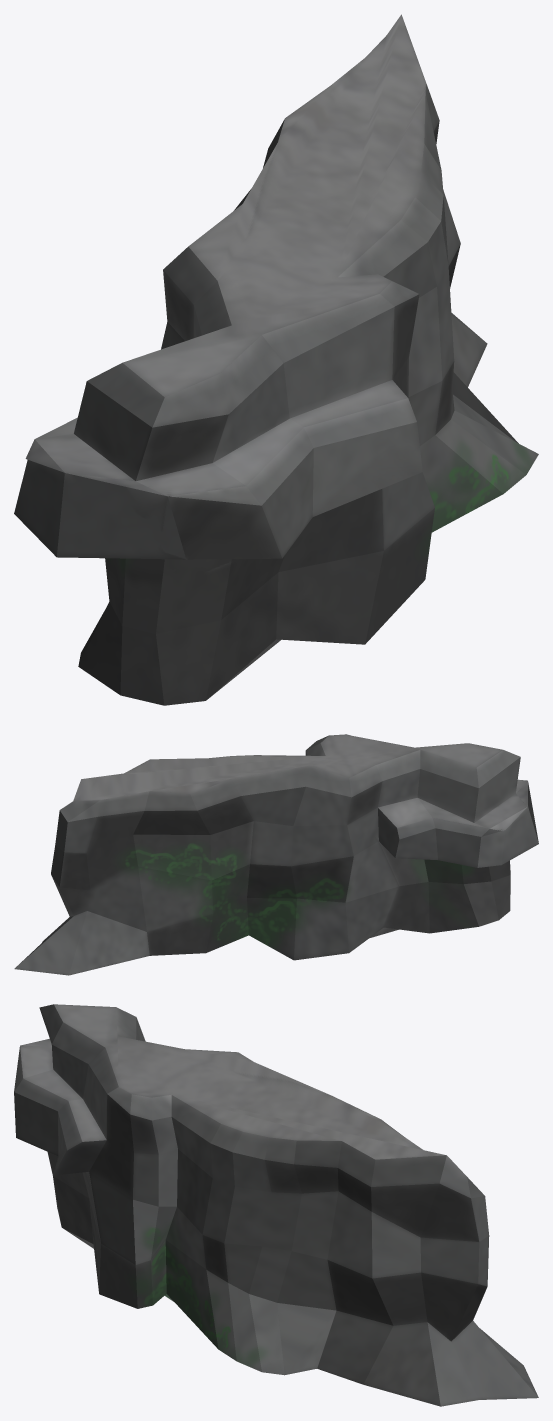
Rendered from batu 6.fbx.
3 views of the same model, one above another, from view 1: azimuth 30°, elevation 25°; view 2: azimuth 150°, elevation 25°; view 3: azimuth 270°, elevation 25° (orthographic). The views are drawn at different scales.
Visible parts, largest first — view 1: batu6; view 2: batu6; view 3: batu6.
Part boxes in pixels (bbox=[...]): batu6: bbox=[14, 14, 538, 705]; batu6: bbox=[14, 734, 538, 975]; batu6: bbox=[14, 1004, 538, 1406].
Bounding box in the file's own units: 590 × 297 × 580.
